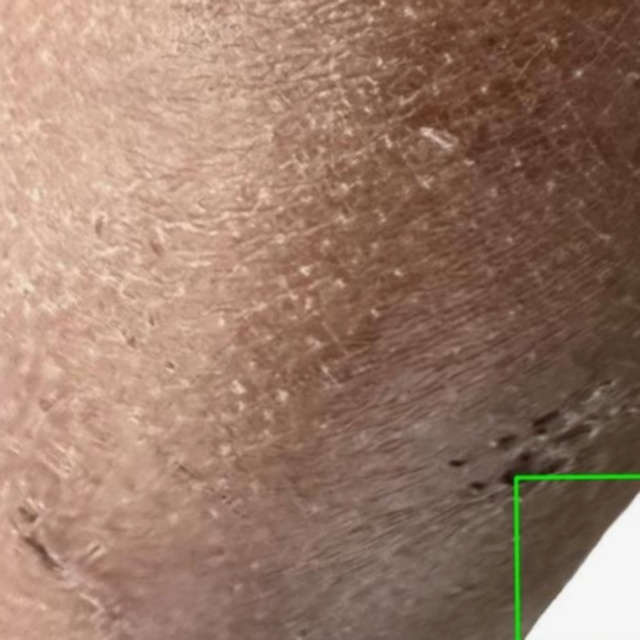Atopic Dermatitis: (516, 476, 639, 639)
